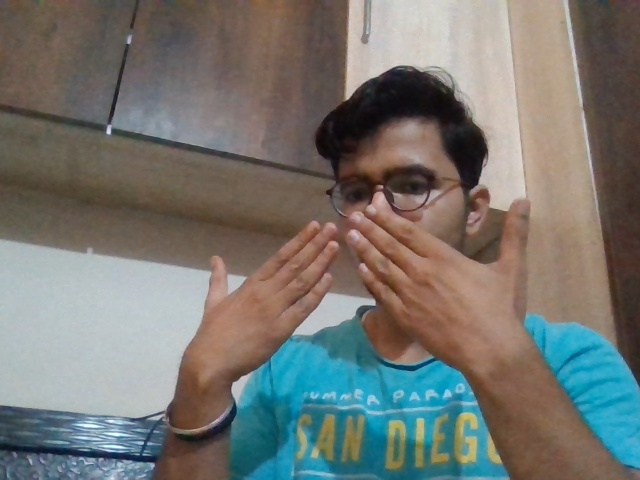thankyou: (170, 197, 550, 394)
